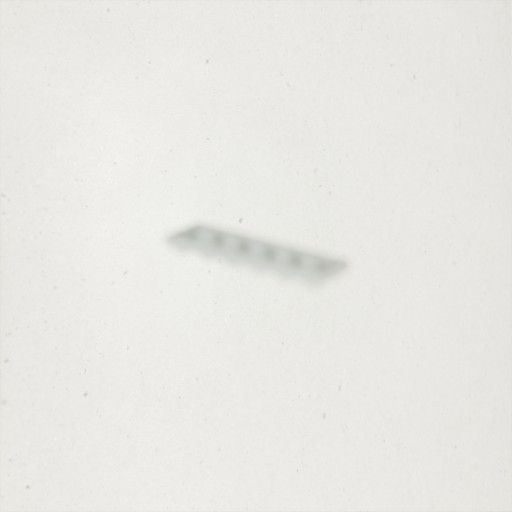lego: (163, 221, 351, 290)
